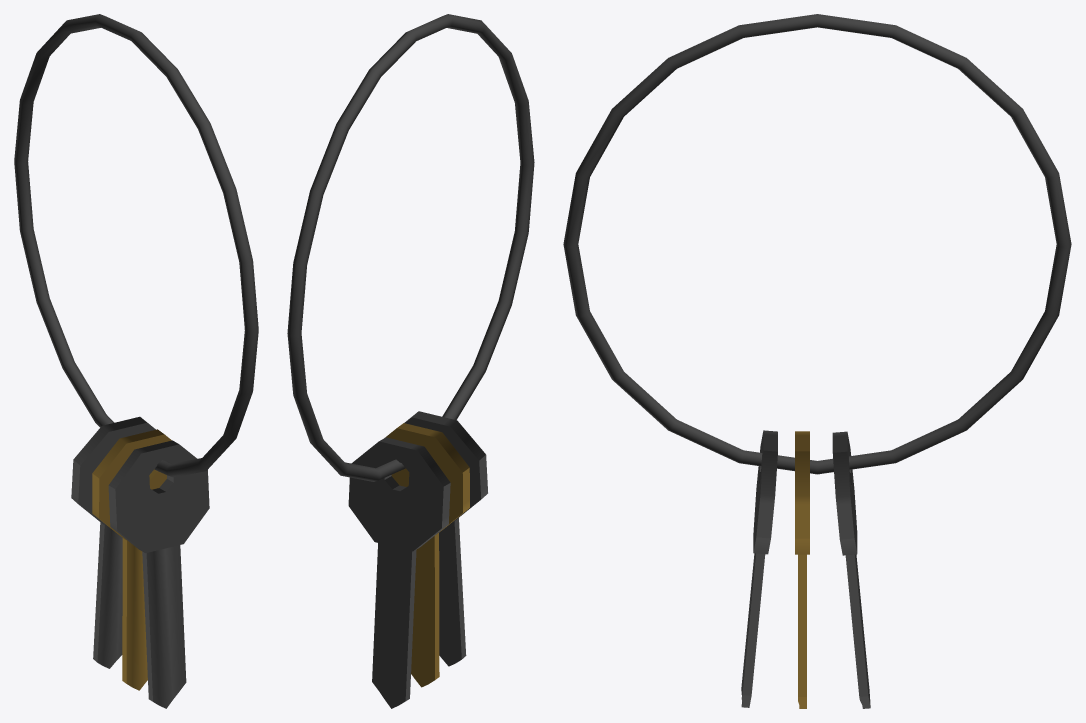
The model's file is MSH_Llaves.FBX.
3 views of the same model, side by side, from view 1: azimuth 30°, elevation 25°; view 2: azimuth 150°, elevation 25°; view 3: azimuth 270°, elevation 25° (orthographic). The views are drawn at different scales.
Visible parts, largest first — view 1: Torus001; view 2: Torus001; view 3: Torus001.
Part boxes in pixels (<box>): Torus001: <box>14,14,258,708</box>; Torus001: <box>287,14,534,708</box>; Torus001: <box>563,14,1071,708</box>.
Size of the model in its own units: 14.61 by 98.56 by 65.04.
